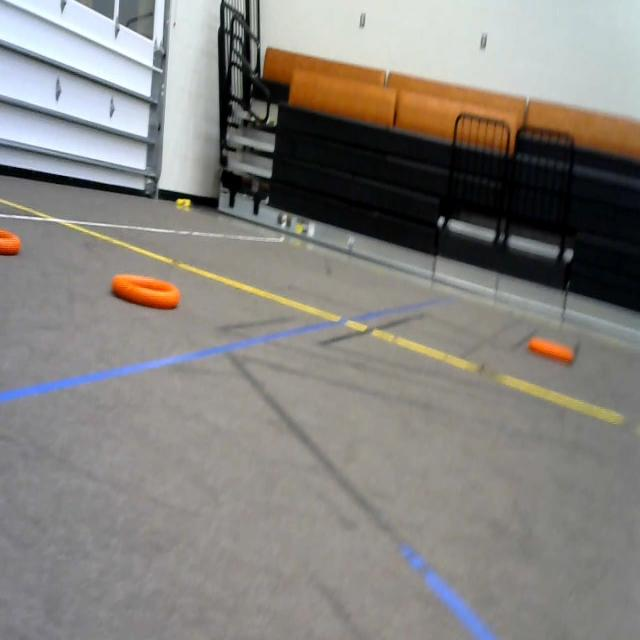note: (106, 263, 182, 312), (527, 330, 579, 368), (0, 226, 23, 256)
